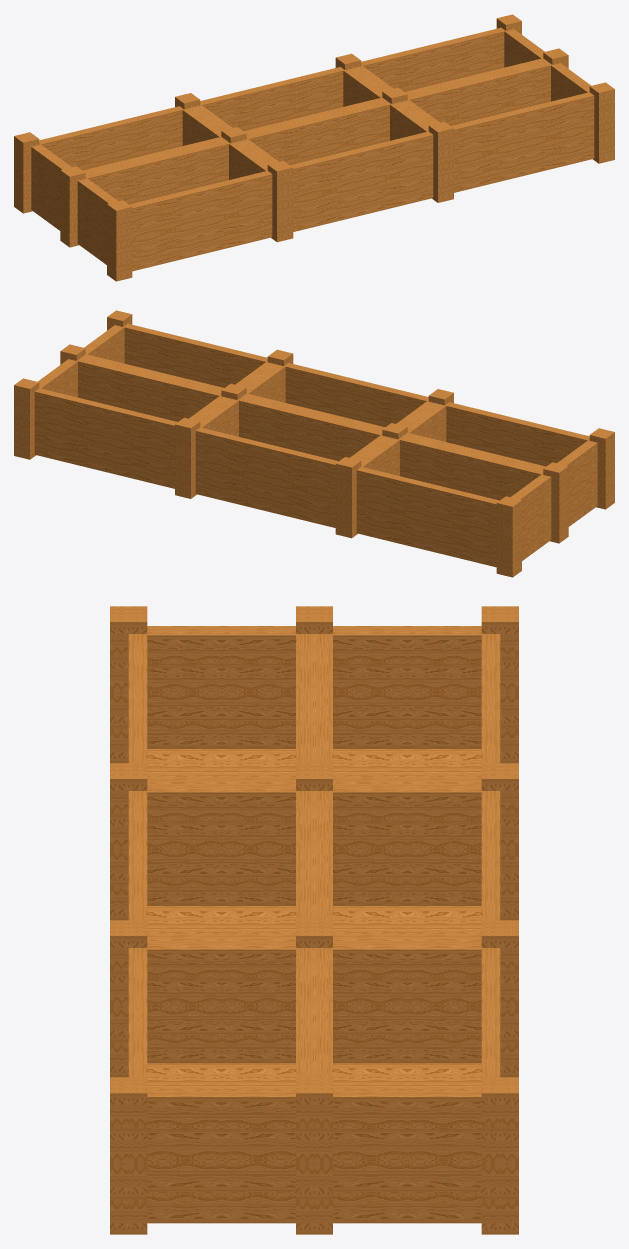
Rendered from shelf.fbx.
3 views of the same model, one above another, from view 1: azimuth 30°, elevation 25°; view 2: azimuth 150°, elevation 25°; view 3: azimuth 270°, elevation 25° (orthographic). The views are drawn at different scales.
Parts seen in each view (by area): view 1: shelves; view 2: shelves; view 3: shelves.
Boxes of the visible parts, box(x1,y1,x2,y2) form: shelves: box(14, 14, 614, 281); shelves: box(14, 310, 614, 577); shelves: box(110, 606, 518, 1234).
Bounding box in the file's own units: 1240 × 168 × 440.
1 material, 1 textured.
